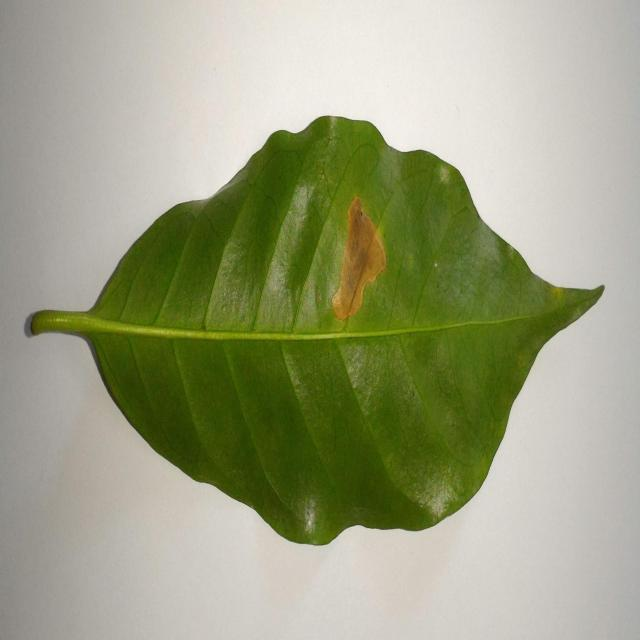miner: (332, 197, 386, 321)
